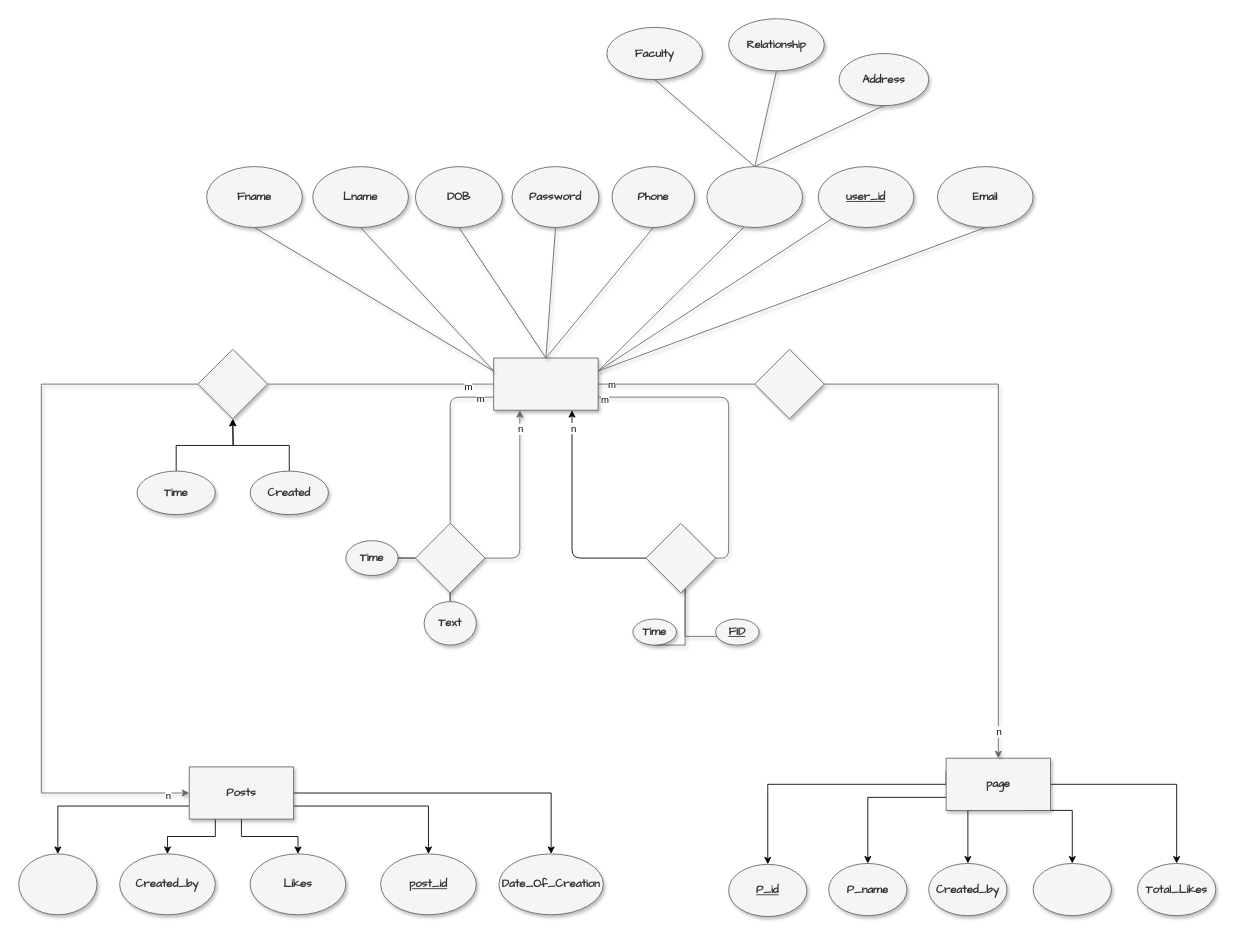
Some shapes in this 1236 by 944 pixel diagram are drawn without their labels. The centre of each missing label's shape, as x and y in pixels:
About: pixel 755 198
Chat: pixel 450 559
Company_Email: pixel 1073 890
follows: pixel 790 385
Friend with: pixel 681 559
Share: pixel 233 385
Title: pixel 58 885
users: pixel 546 385
